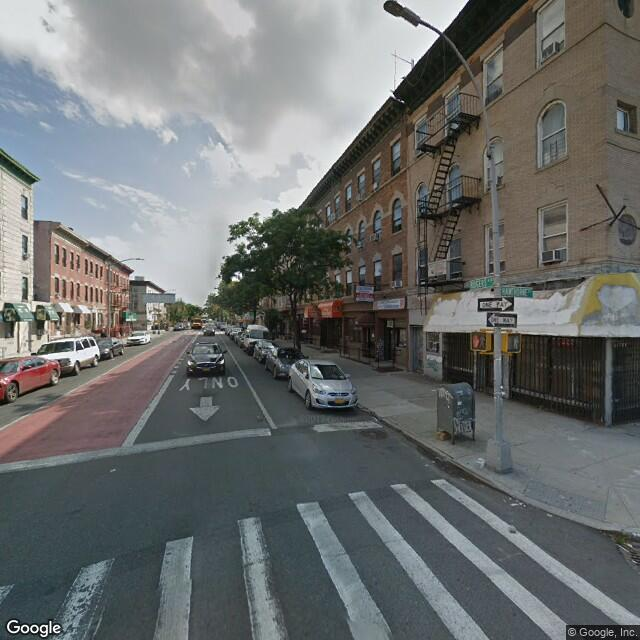litter: (605, 526, 640, 569)
